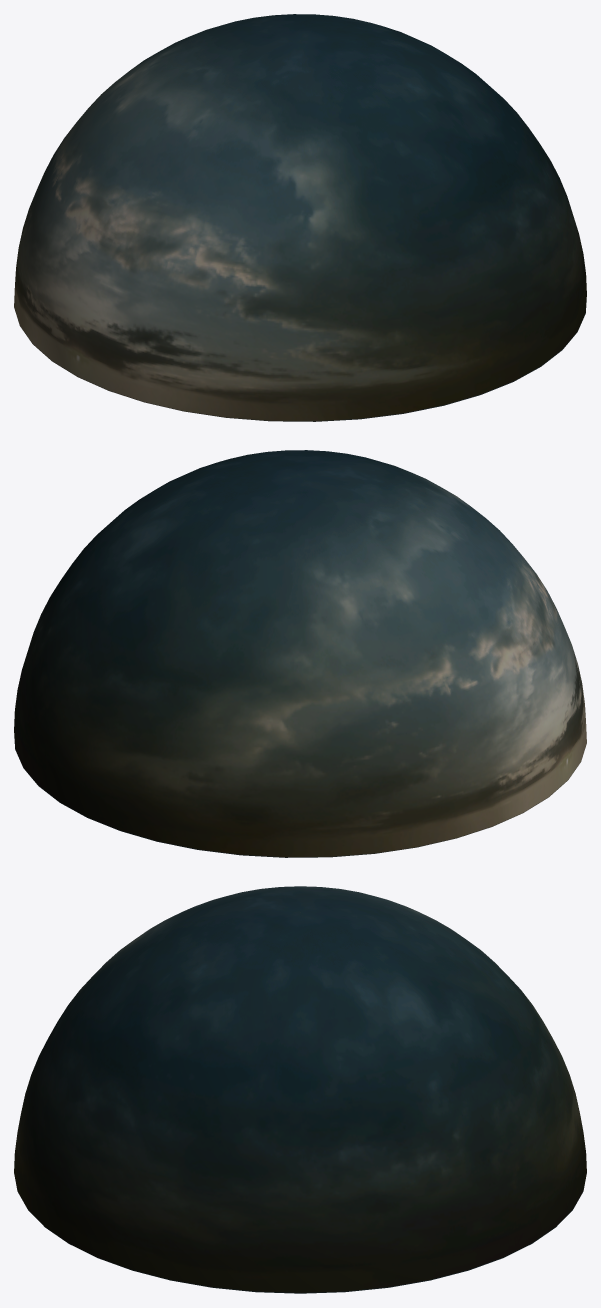
File: streets_backdrops_skydome.dae
3 renders of one model, top to bottom at view 1: azimuth 30°, elevation 25°; view 2: azimuth 150°, elevation 25°; view 3: azimuth 270°, elevation 25°, orthographic.
Parts seen in each view (by area): view 1: pSphere1; view 2: pSphere1; view 3: pSphere1.
Part boxes in pixels (x1=…): pSphere1: x1=14, y1=14, x2=586, y2=421; pSphere1: x1=14, y1=450, x2=586, y2=857; pSphere1: x1=14, y1=886, x2=586, y2=1293.
Size of the model in its own units: 21000 by 10500 by 21000.
